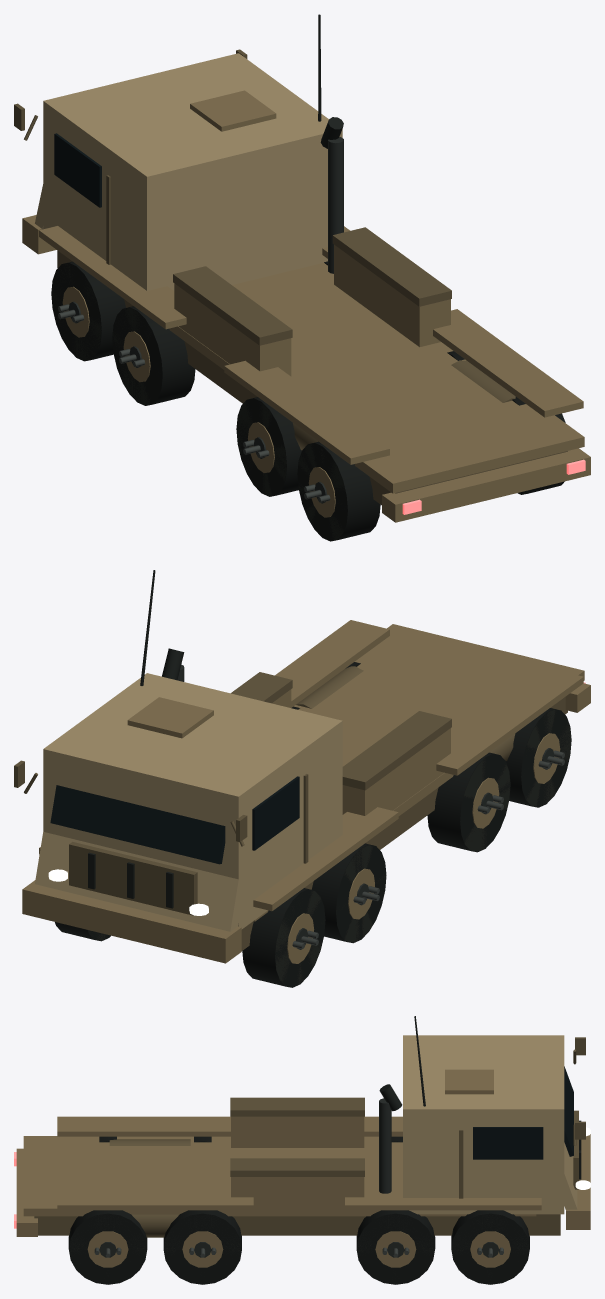
Rendered from simulation-radar.glb.
3 renders of one model, top to bottom at view 1: azimuth 30°, elevation 25°; view 2: azimuth 150°, elevation 25°; view 3: azimuth 270°, elevation 25°, orthographic. The views are drawn at different scales.
Parts seen in each view (by area): view 1: part-0101, part-0001, part-0002, part-0027, part-0126, part-0071, part-0005, part-0123, part-0124, part-0127, part-0049, part-0100 (+19 smaller); view 2: part-0101, part-0001, part-0113, part-0103, part-0102, part-0109, part-0005, part-0049, part-0124, part-0123, part-0027, part-0071 (+20 smaller); view 3: part-0101, part-0001, part-0000, part-0123, part-0126, part-0038, part-0016, part-0082, part-0060, part-0124, part-0127, part-0105 (+19 smaller).
Part boxes in pixels (x1,y1,x2,y2): part-0101: (43, 53, 342, 290); part-0001: (169, 262, 584, 493); part-0002: (382, 448, 590, 522); part-0027: (112, 306, 195, 405); part-0126: (334, 244, 450, 347); part-0071: (297, 441, 380, 541); part-0005: (51, 261, 125, 361); part-0123: (174, 283, 291, 376); part-0124: (173, 266, 292, 345); part-0127: (332, 227, 451, 306); part-0049: (236, 397, 301, 496); part-0100: (479, 353, 583, 417); part-0101: (43, 673, 342, 929); part-0001: (253, 624, 584, 921); part-0113: (22, 880, 241, 963); part-0103: (50, 785, 225, 864); part-0102: (35, 832, 242, 931); part-0109: (69, 841, 197, 915); part-0005: (242, 888, 325, 987); part-0049: (427, 752, 510, 852); part-0124: (342, 711, 451, 790); part-0123: (342, 728, 450, 815); part-0027: (311, 843, 386, 943); part-0071: (506, 708, 571, 807); part-0101: (403, 1035, 564, 1214); part-0001: (23, 1136, 536, 1216); part-0000: (34, 1214, 560, 1235); part-0123: (231, 1116, 364, 1147); part-0126: (231, 1177, 364, 1208); part-0038: (356, 1210, 435, 1284); part-0016: (451, 1210, 529, 1284); part-0082: (68, 1210, 147, 1284); part-0060: (163, 1210, 241, 1284); part-0124: (230, 1097, 364, 1116); part-0127: (230, 1158, 364, 1176); part-0105: (473, 1127, 543, 1159).
Bounding box in the file's own units: 3.3 × 4.05 × 8.22.
